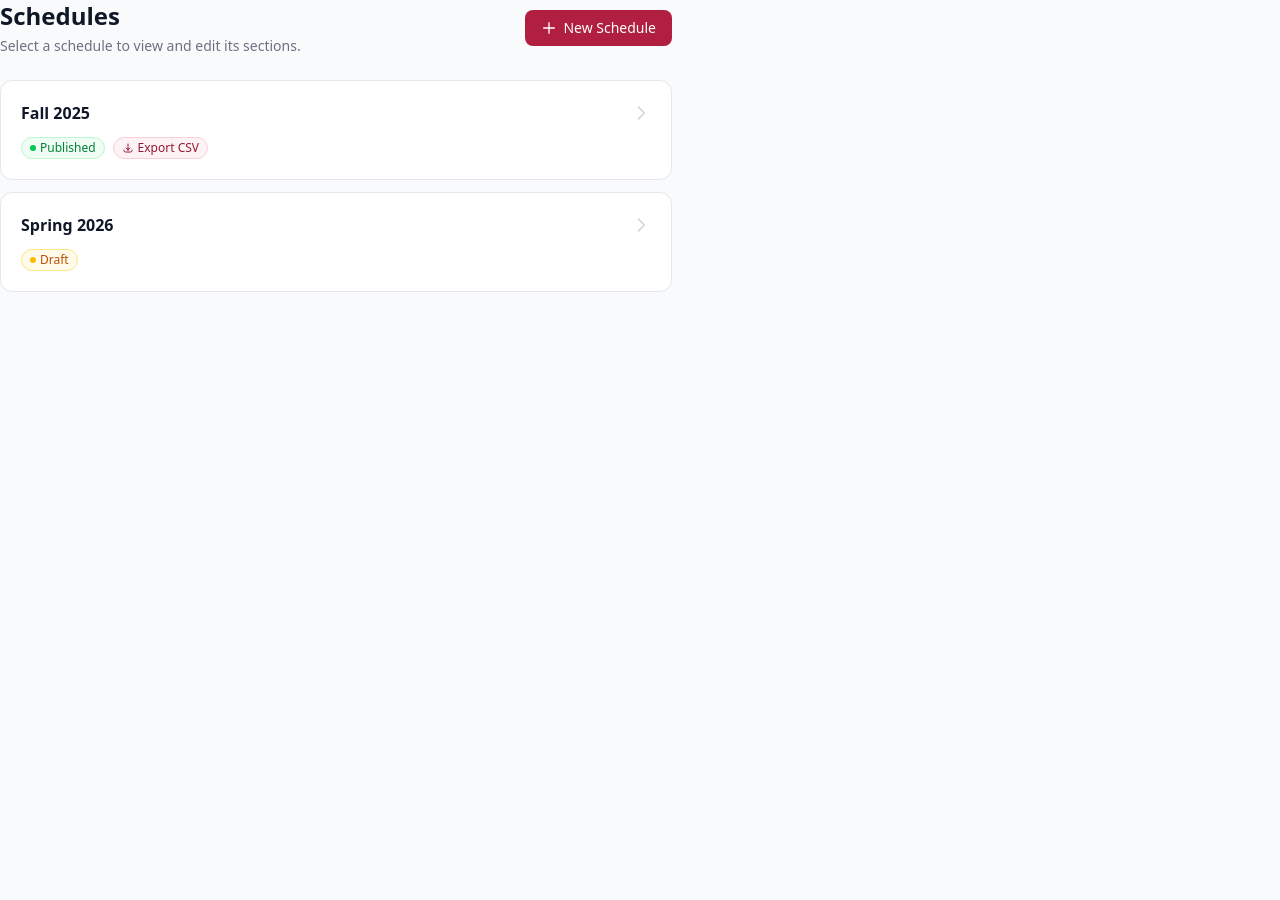
ScheduleList page › opens the create-schedule modal when admin clicks "New Schedule"
Click the button "New Schedule" at (599, 28), box [525,10,672,46]
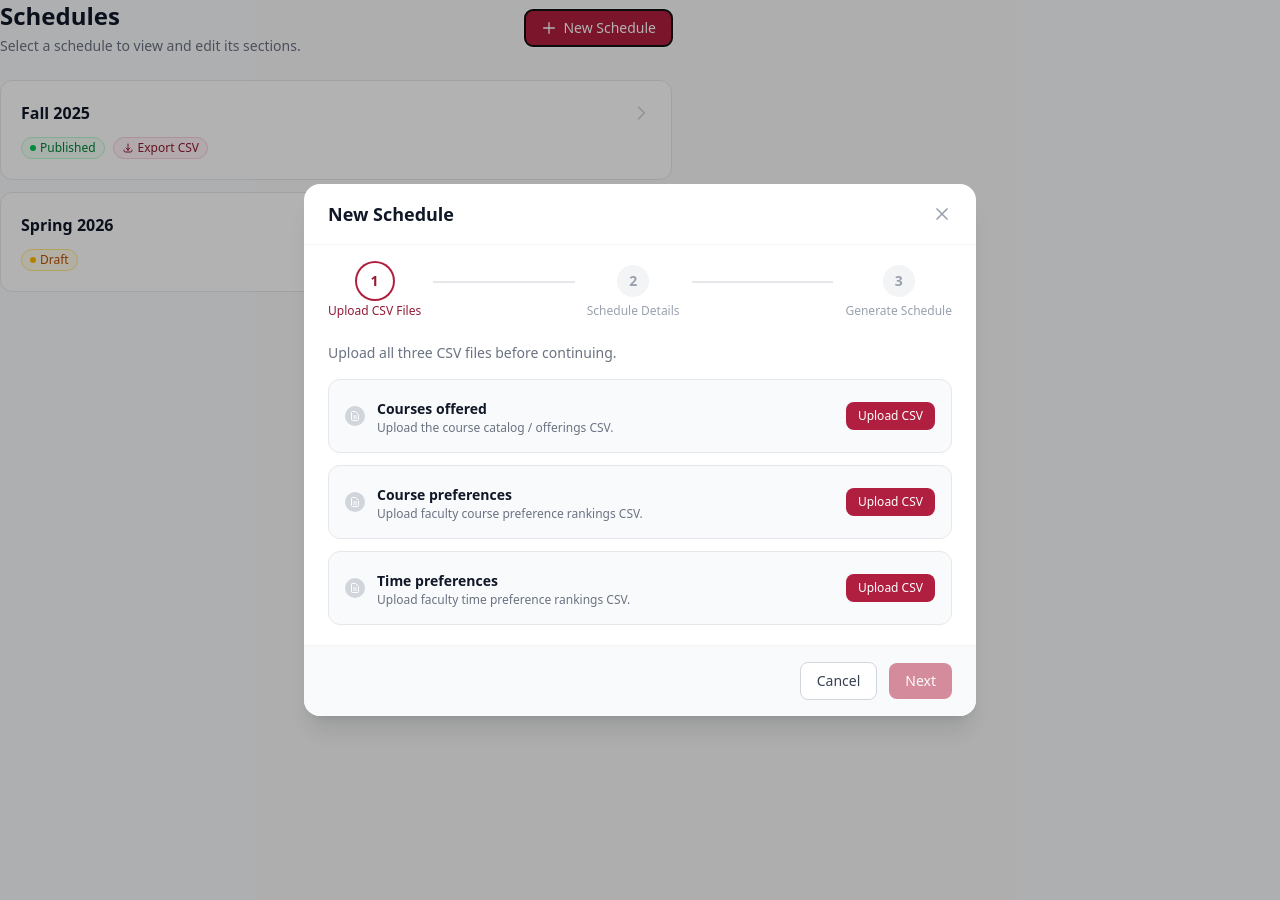
Result: the text "Upload CSV Files" is shown at [328,303,421,319]
Result: the button "Next" is disabled at [889,663,952,699]
